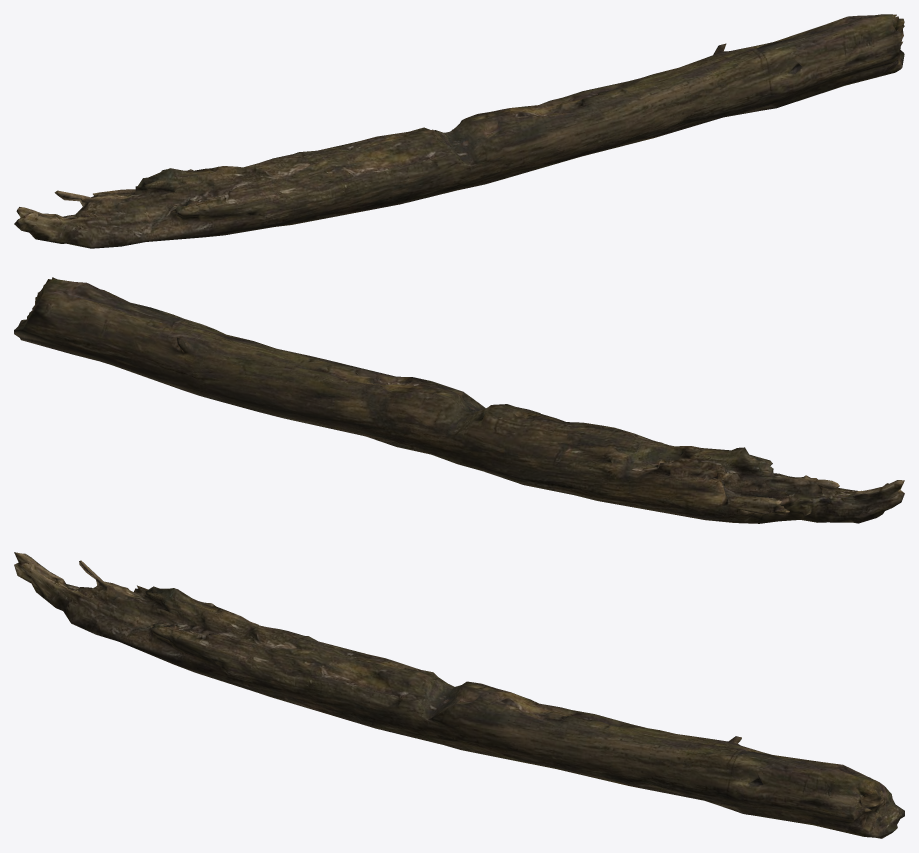
Rendered from dead_tree_trunk.glb.
The picture shows the model from 3 angles, top to bottom: view 1: azimuth 30°, elevation 25°; view 2: azimuth 150°, elevation 25°; view 3: azimuth 330°, elevation 25°; orthographic projection.
Parts seen in each view (by area): view 1: dead_tree_trunk; view 2: dead_tree_trunk; view 3: dead_tree_trunk.
Boxes of the visible parts, x1,y1,x2,y2 form: dead_tree_trunk: [14, 14, 904, 248]; dead_tree_trunk: [14, 277, 904, 523]; dead_tree_trunk: [14, 552, 904, 838].
Size of the model in its own units: 3.05 by 0.2869 by 0.2763.
Materials: 1 (1 with a texture image).
